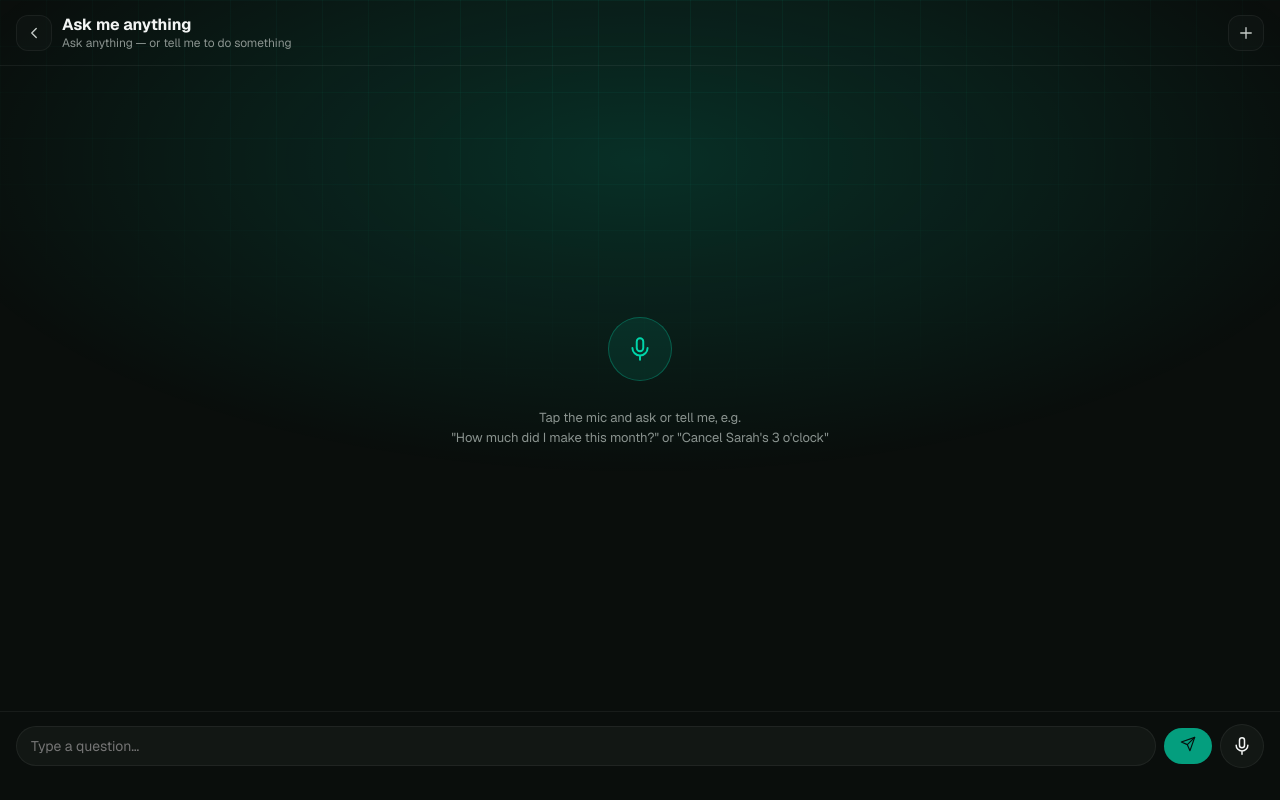
VoiceAssistant page › navigates to the booking when the reply carries a navigate action
Type "yes" into the field with placeholder "Type a question…".
click(586, 746); type("yes")  # box left=16, top=726, right=1156, bottom=766
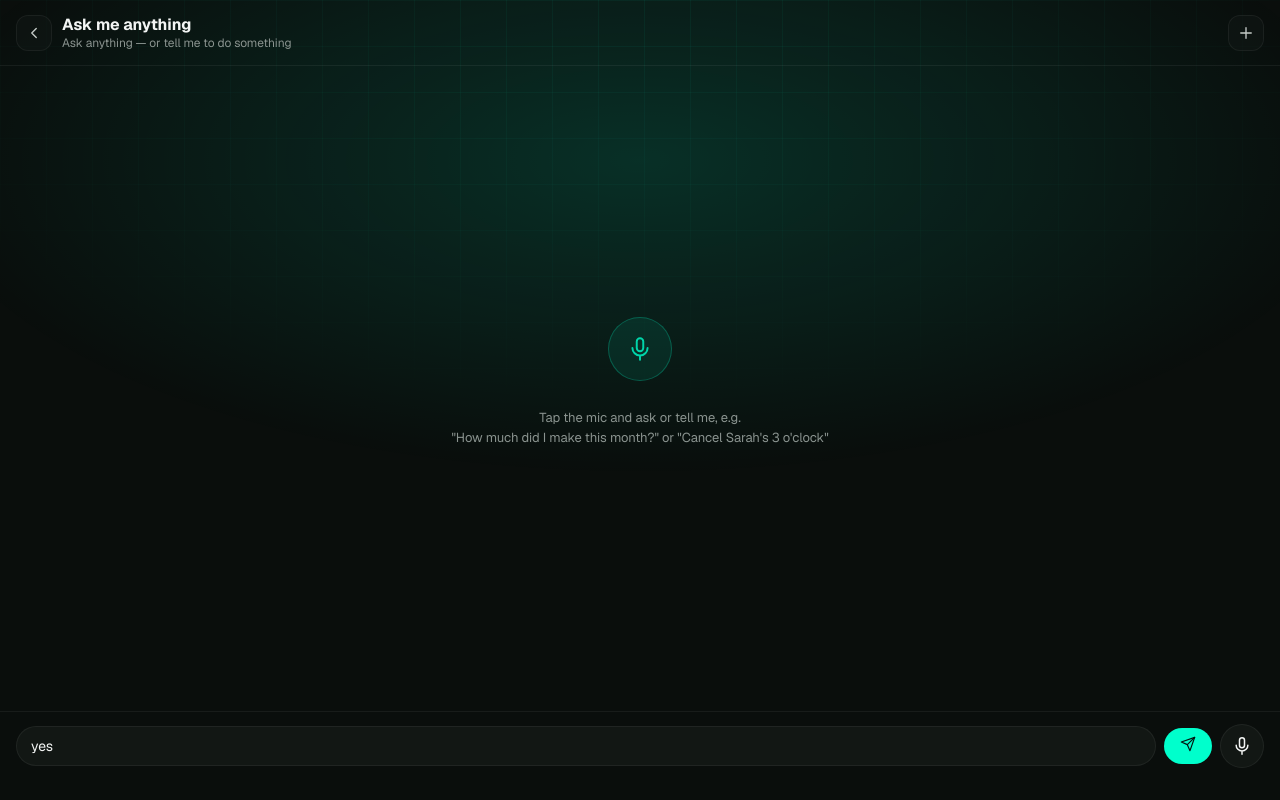
Click the button named "send".
click(1188, 746)  # box left=1164, top=728, right=1212, bottom=764
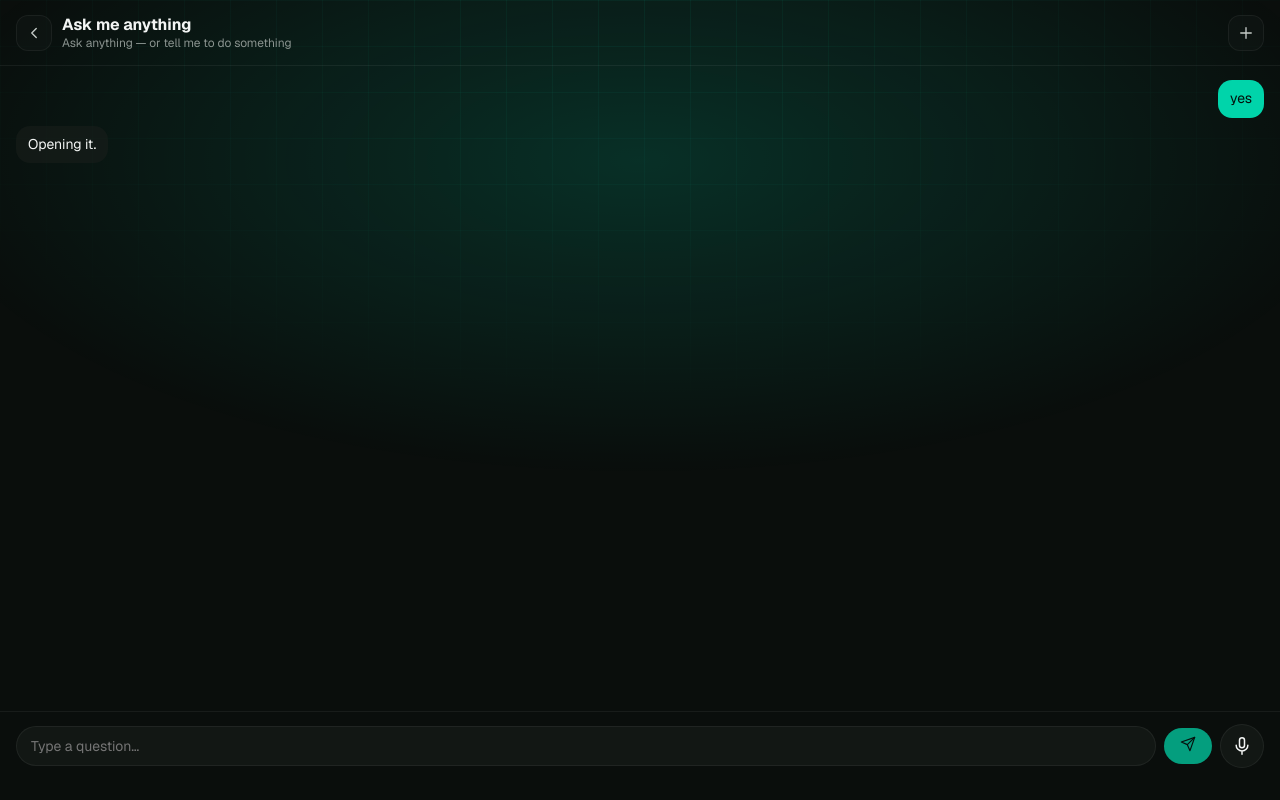
expect the text "Opening it." is shown: met, box left=28, top=135, right=96, bottom=154
